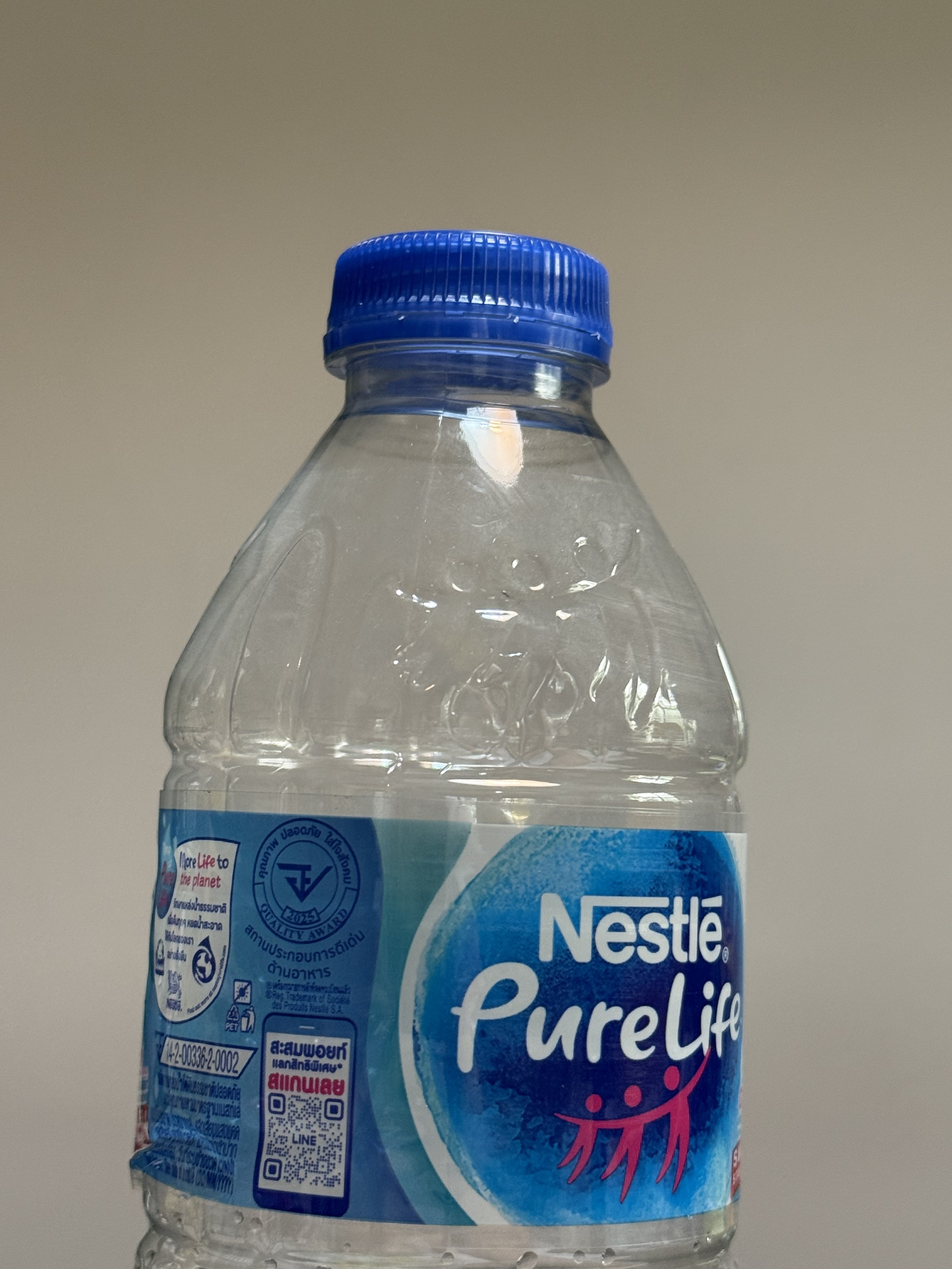closed_cap: (320, 224, 616, 380)
